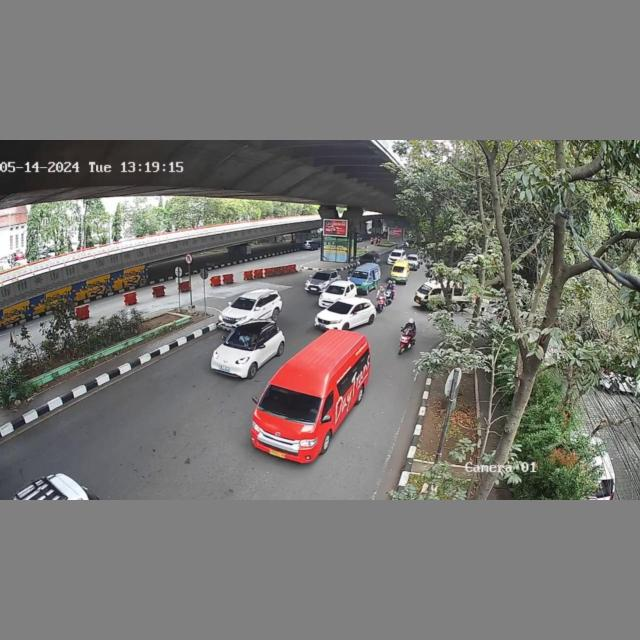windshield: (256, 384, 325, 424), (225, 327, 260, 349)
